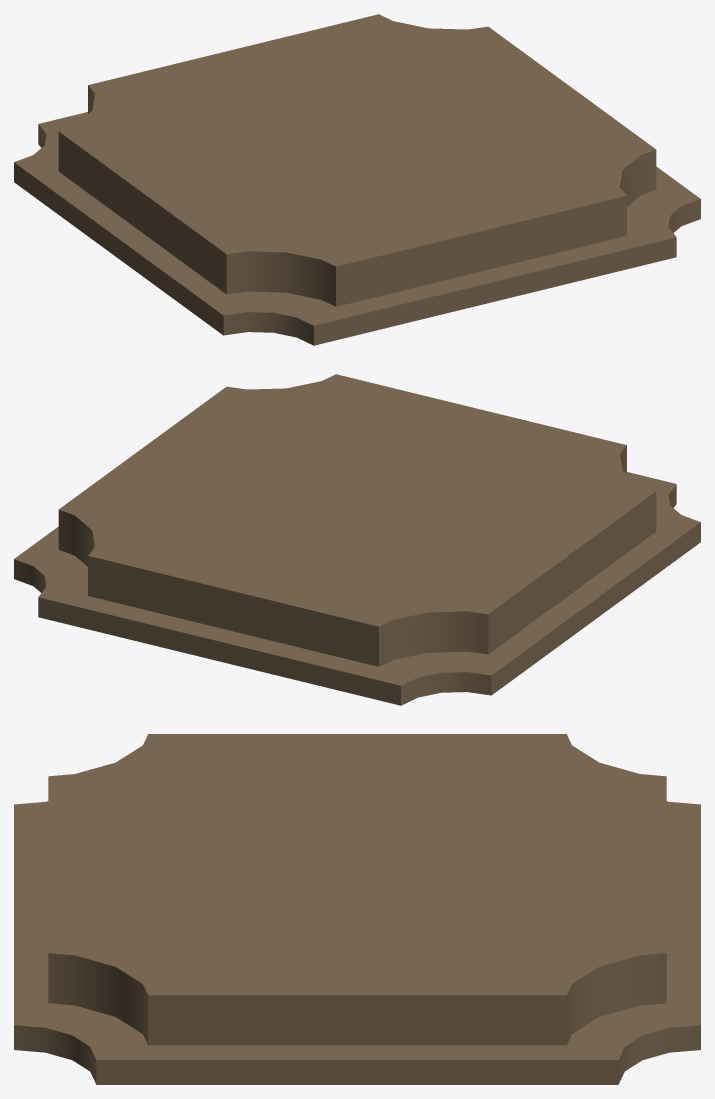
Rendered from pressure_plate.FBX.
3 views of the same model, one above another, from view 1: azimuth 30°, elevation 25°; view 2: azimuth 150°, elevation 25°; view 3: azimuth 270°, elevation 25° (orthographic). The views are drawn at different scales.
Visible parts, largest first — view 1: pressure_plate, pressure_plate_base; view 2: pressure_plate, pressure_plate_base; view 3: pressure_plate, pressure_plate_base.
Boxes of the visible parts, bbox=[...] form: pressure_plate: bbox=[58, 14, 656, 306]; pressure_plate_base: bbox=[14, 112, 700, 345]; pressure_plate: bbox=[58, 374, 656, 666]; pressure_plate_base: bbox=[14, 472, 700, 705]; pressure_plate: bbox=[48, 734, 666, 1045]; pressure_plate_base: bbox=[14, 801, 700, 1084].
Size of the model in its own units: 100 by 12.04 by 100.
